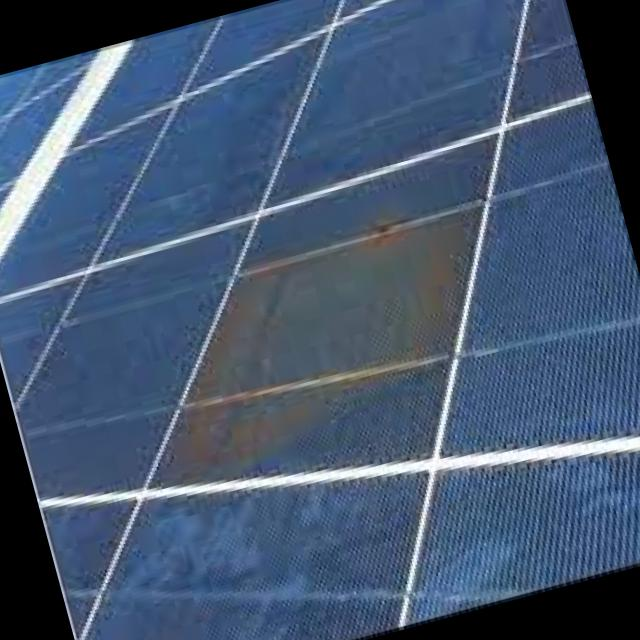faulty: (114, 141, 540, 514)
